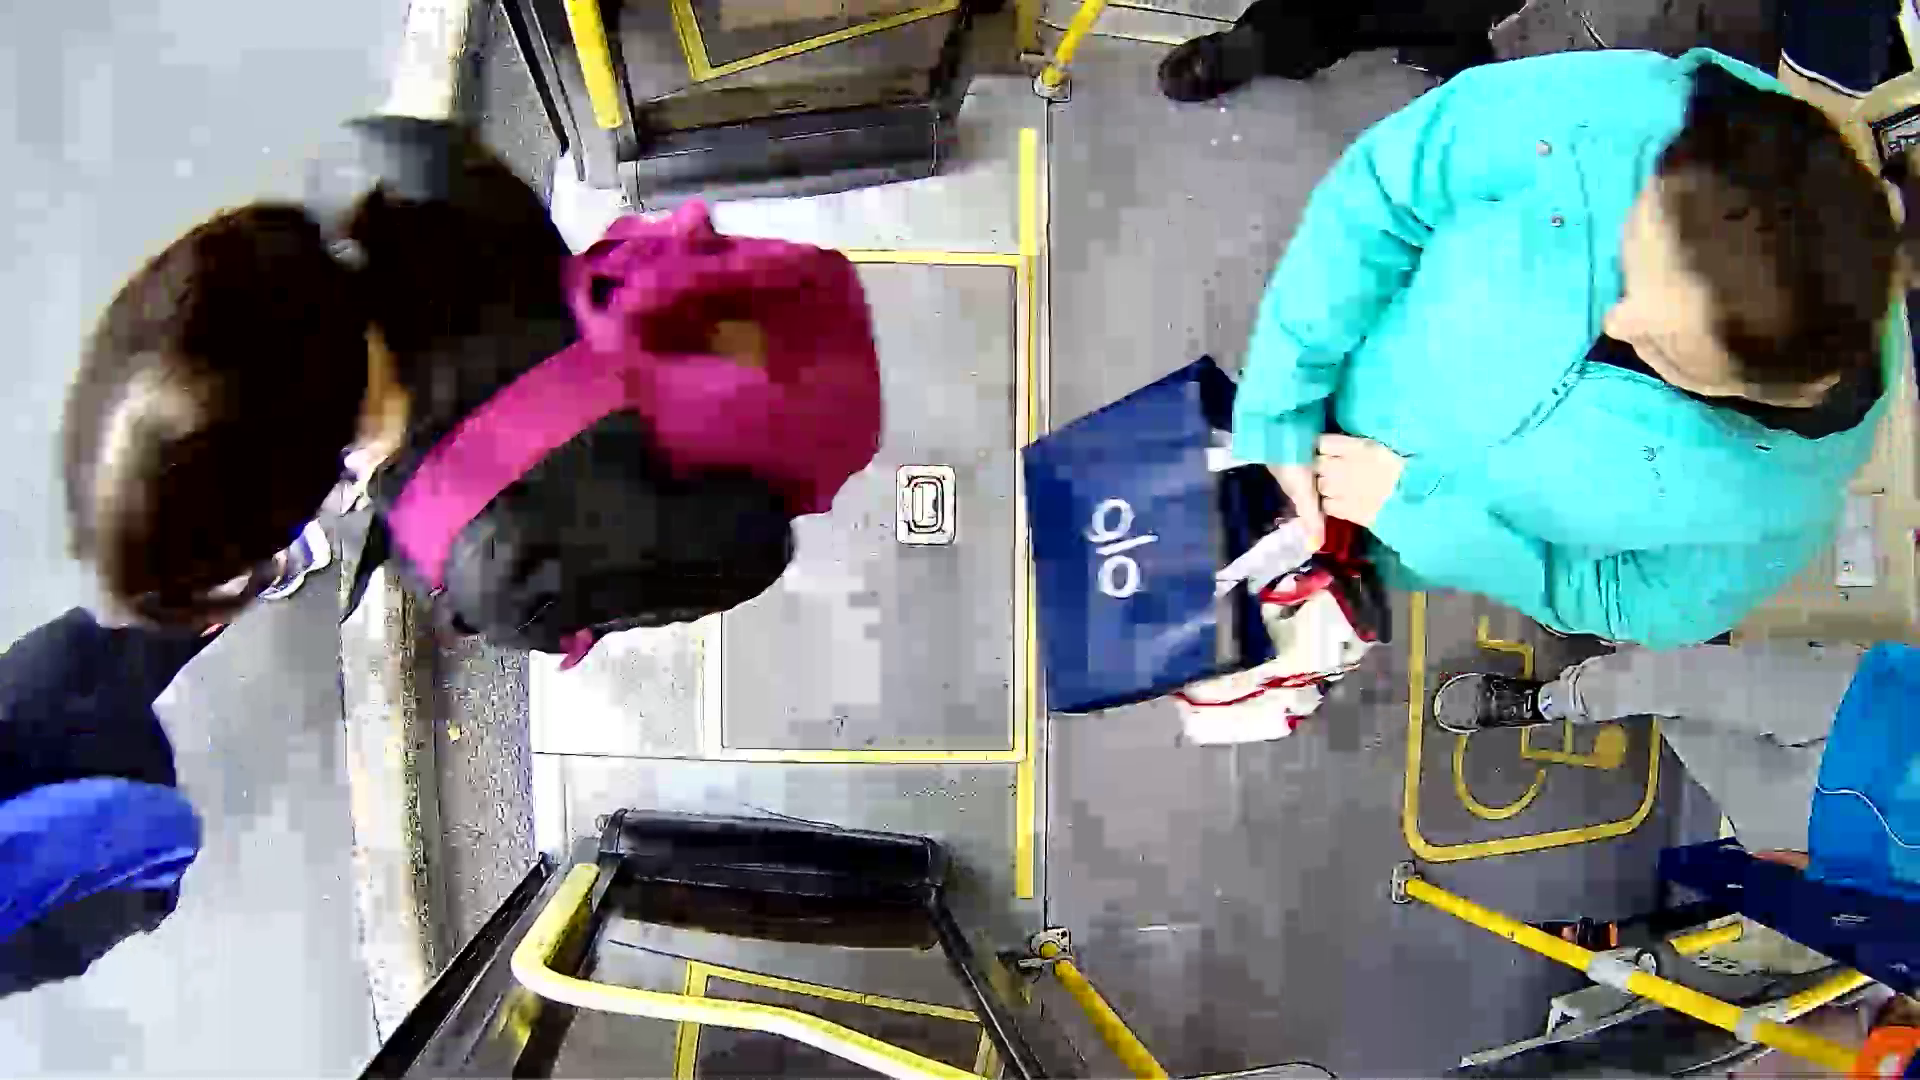person: (1045, 42, 1886, 703), (102, 137, 901, 691)
